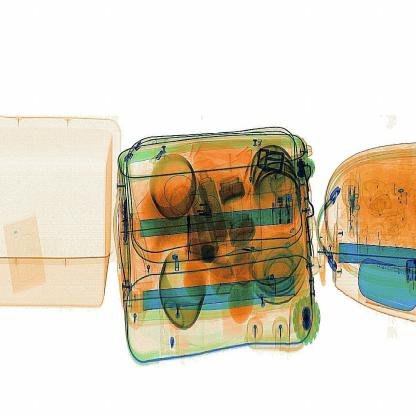knife: (179, 203, 198, 266)
